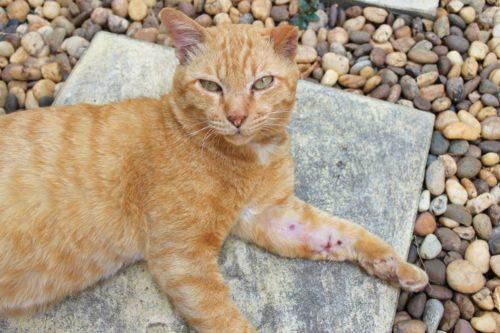cut: (272, 212, 395, 276)
